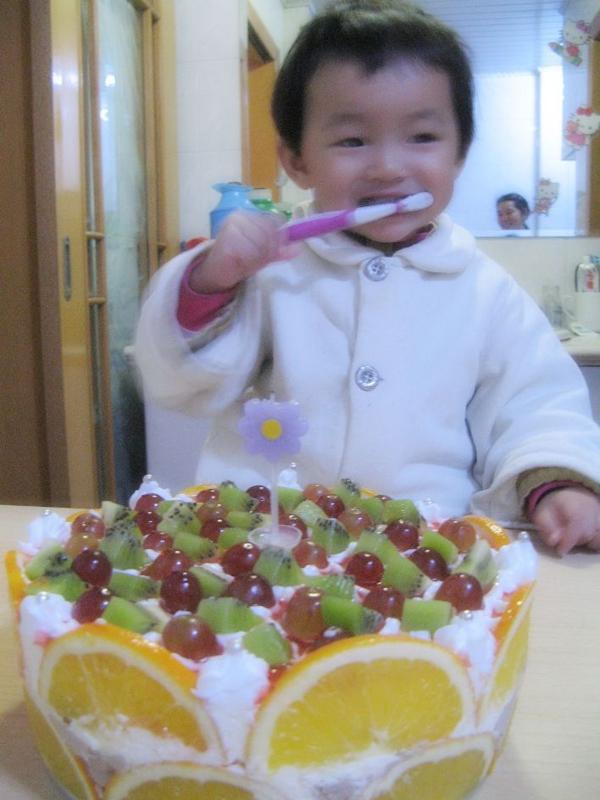person: (87, 6, 303, 403)
